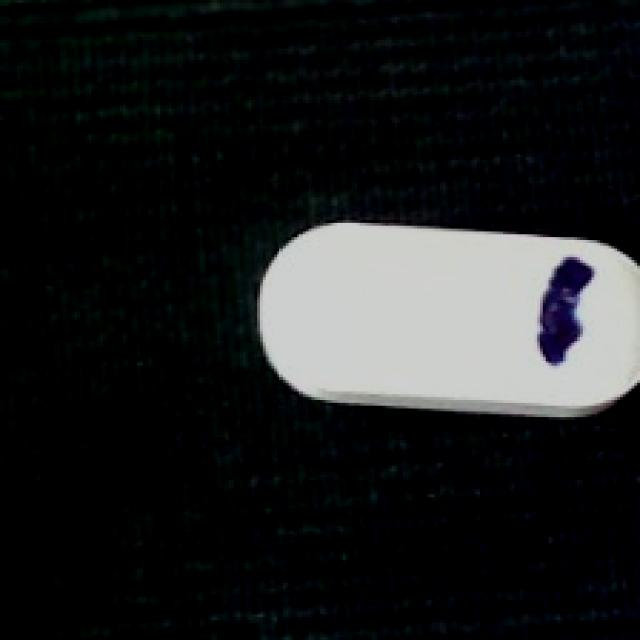defected: (251, 214, 640, 420)
